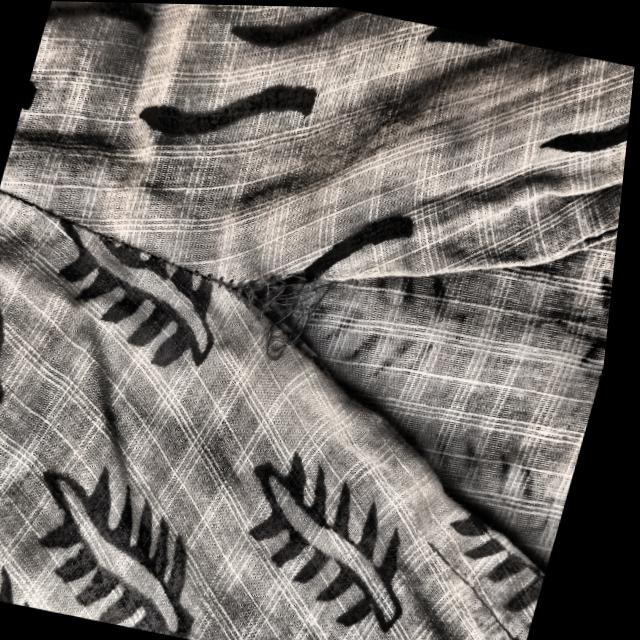Stitch: (170, 225, 405, 438)
